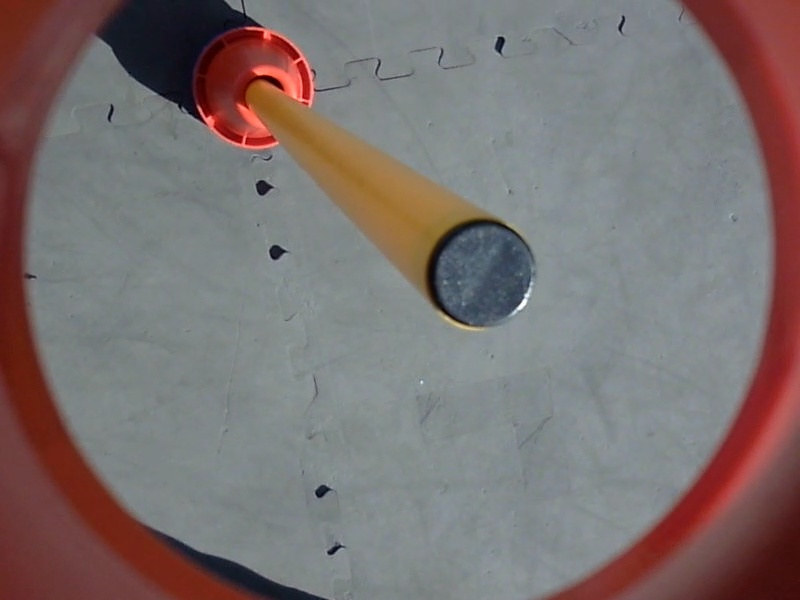tip: (424, 212, 541, 335)
